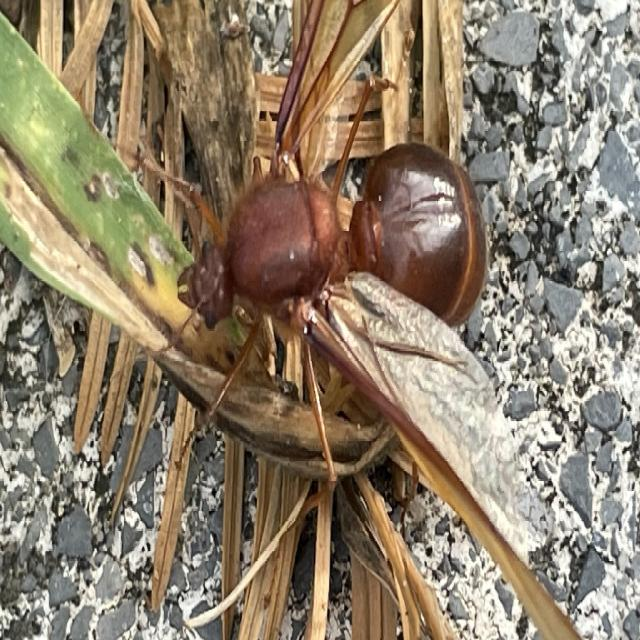Alive-Male-Alate: (75, 0, 582, 640)
